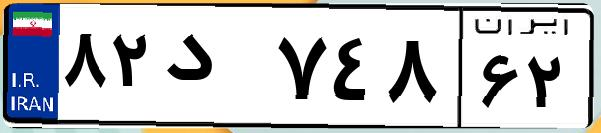2: (525, 38, 570, 115), (110, 28, 158, 98)
4: (330, 28, 385, 110)
6: (475, 38, 525, 113)
7: (270, 28, 330, 110)
8: (385, 28, 445, 110), (57, 26, 110, 100)
د: (158, 20, 270, 120)
